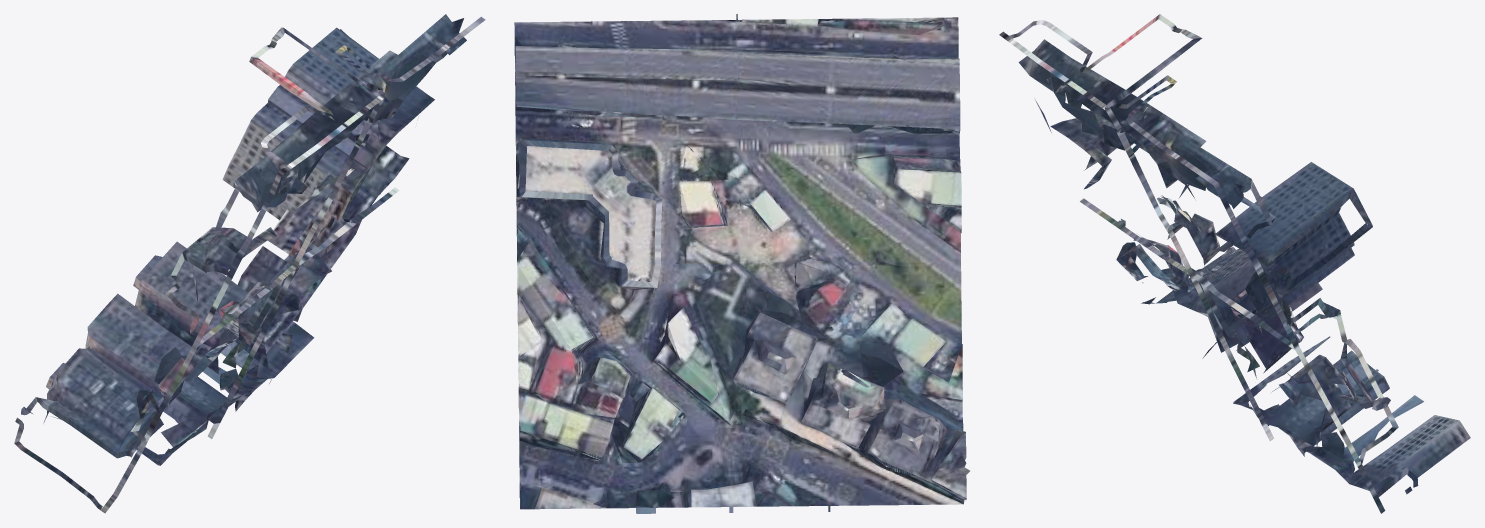
3 views of the same model, side by side, from view 1: azimuth 30°, elevation 25°; view 2: azimuth 150°, elevation 25°; view 3: azimuth 270°, elevation 25° (orthographic). The views are drawn at different scales.
Size of the model in its own units: 172 by 155 by 158.
1 material, 1 textured.
